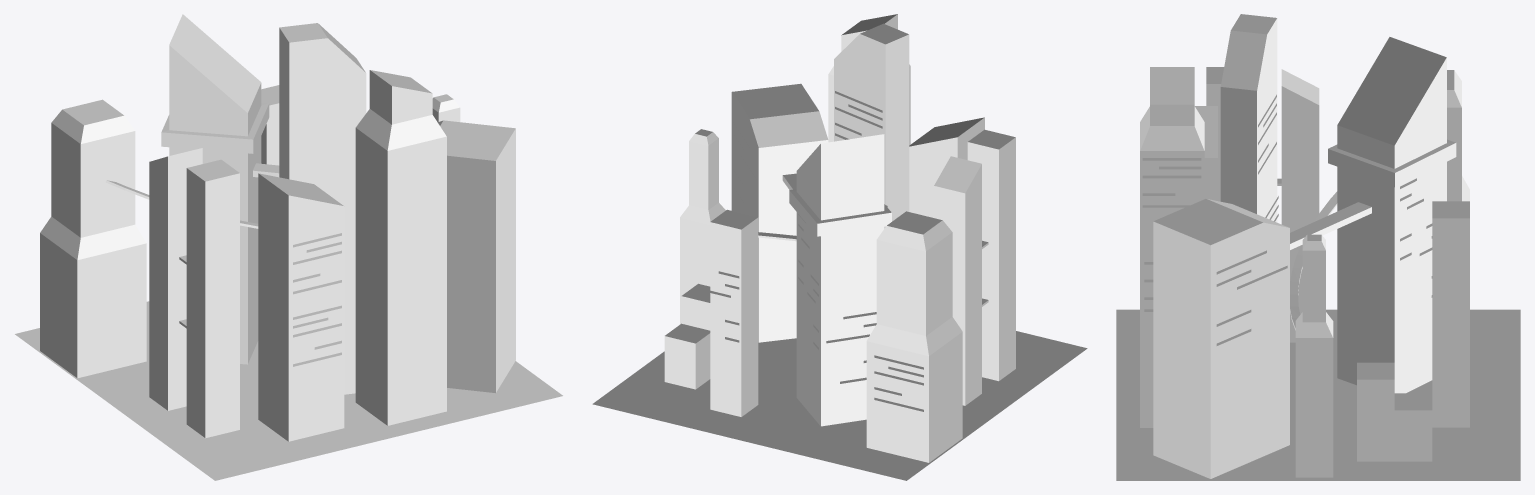
The model's file is eden.ico.obj.
3 renders of one model, left to right at view 1: azimuth 30°, elevation 25°; view 2: azimuth 150°, elevation 25°; view 3: azimuth 270°, elevation 25°, orthographic. The views are drawn at different scales.
Bounding box in the file's own units: 4.93 × 4.87 × 4.92.
1 material, 1 textured.
